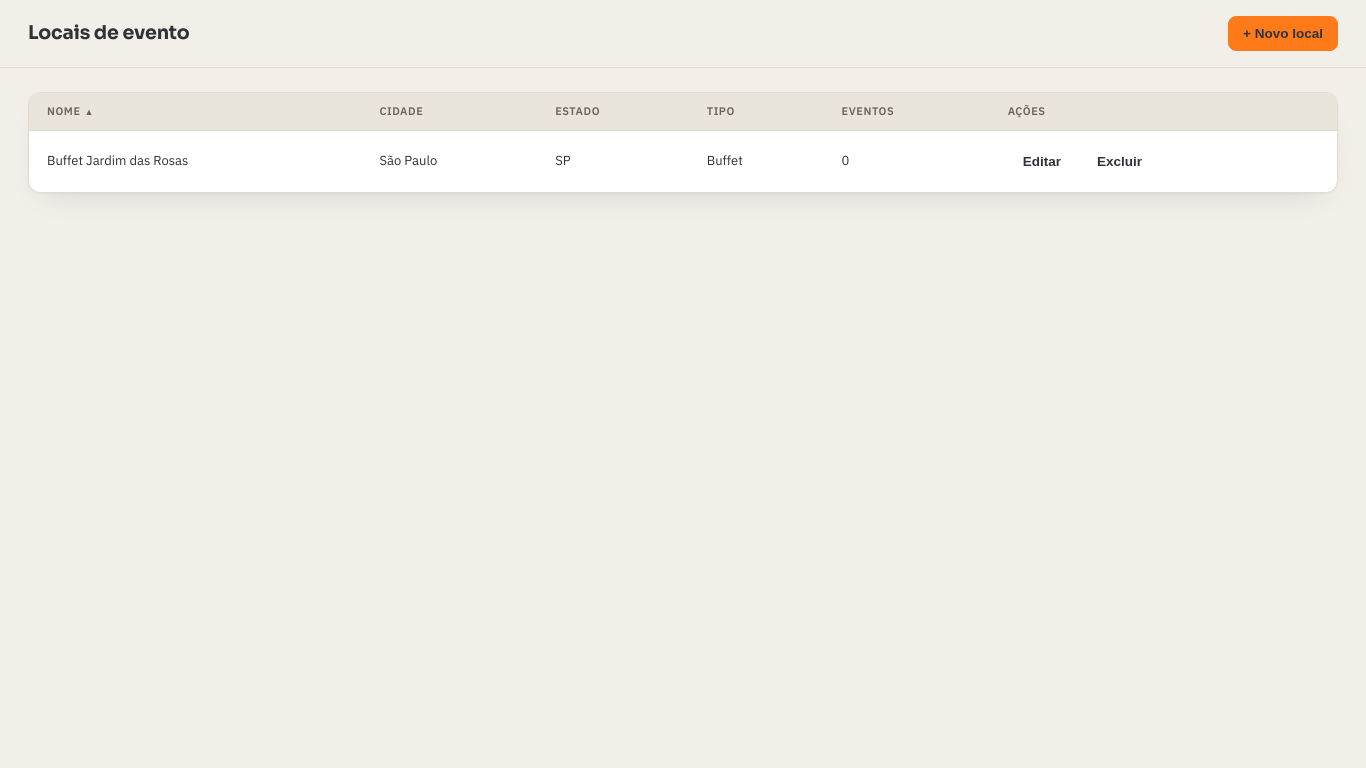
EventVenuesPage › edita um local existente pelo modal
The image size is (1366, 768).
Expected: the text "Buffet Jardim das Rosas" is shown, [29,130,362,192]
Click the button "Editar" at (1042, 161), box [1008,144,1076,178]
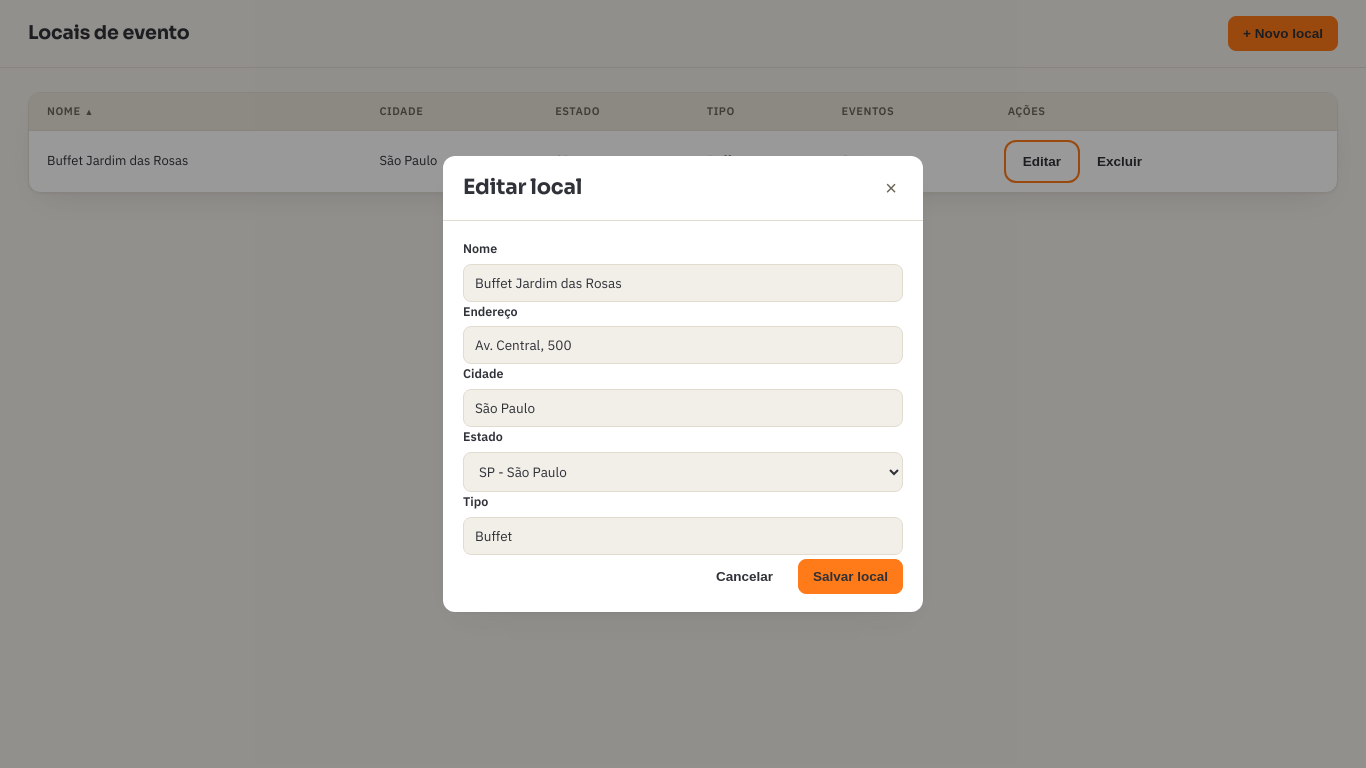
Result: the field labelled "Nome" holds "Buffet Jardim das Rosas"
Replace the text in the field labelled "Nome" with "Buffet Renomeado" at (683, 283), box [463,264,903,302]
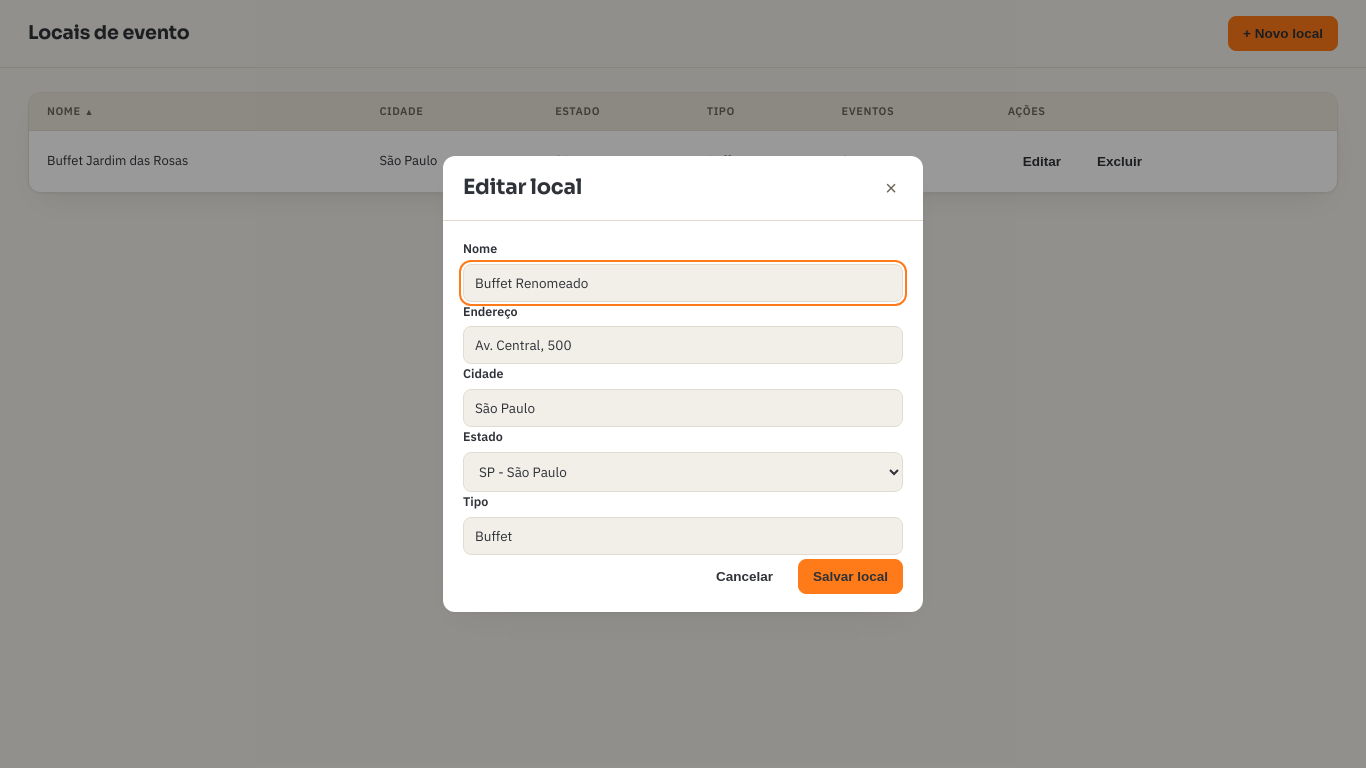
Click the button "Salvar local" at (850, 576), box [798,559,903,594]
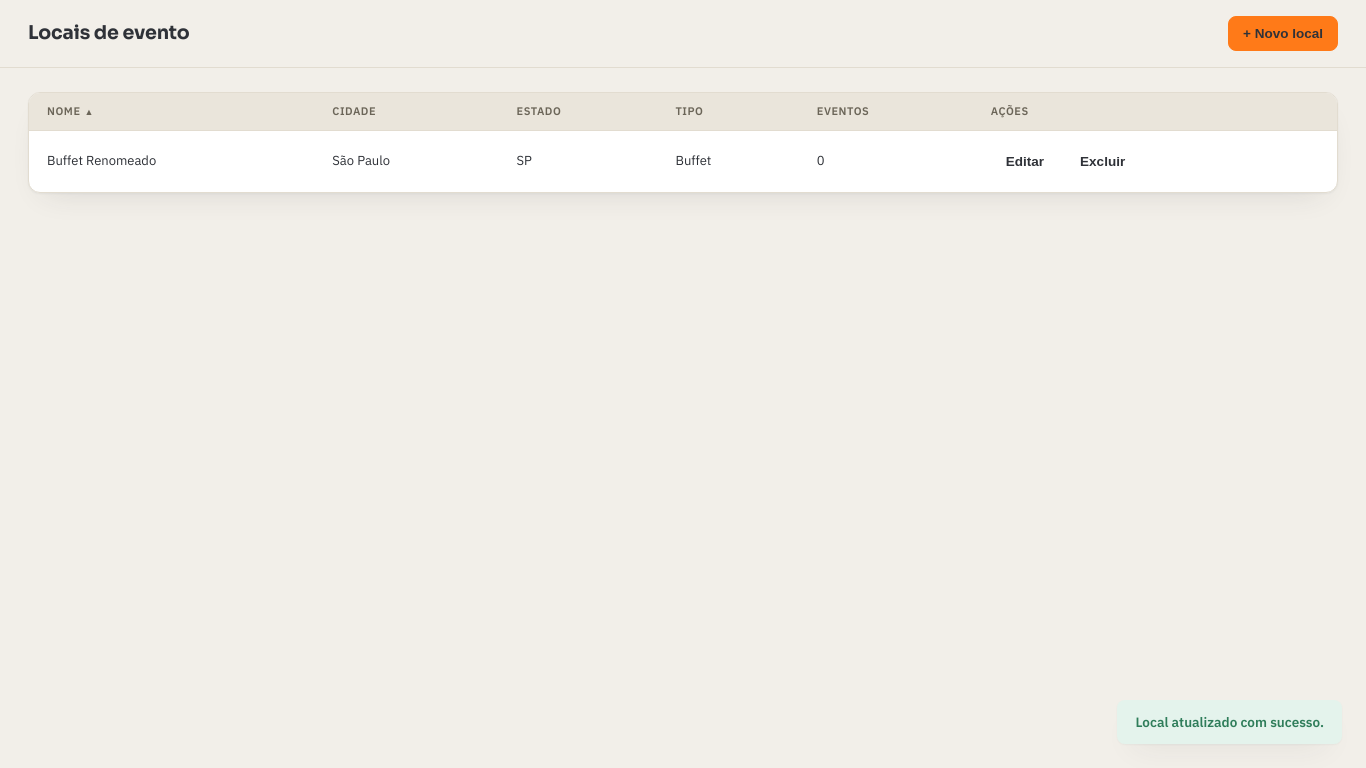
Result: the text "Buffet Renomeado" is shown at [29,130,314,192]
